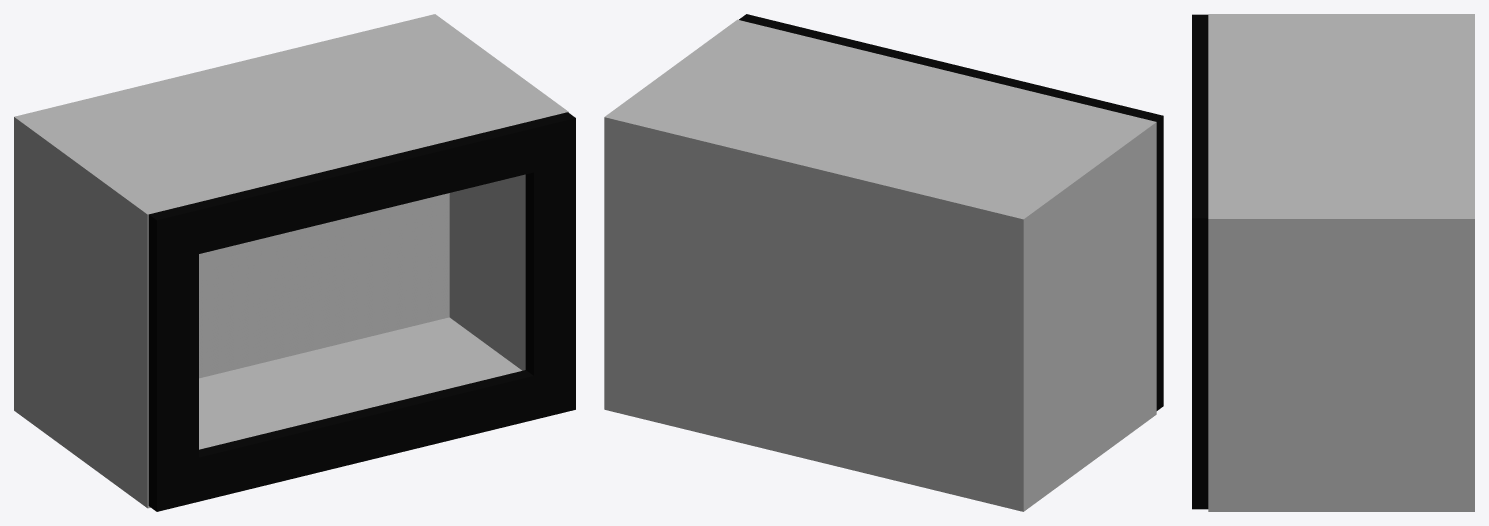
The model's file is dml60.glb.
3 views of the same model, side by side, from view 1: azimuth 30°, elevation 25°; view 2: azimuth 150°, elevation 25°; view 3: azimuth 270°, elevation 25° (orthographic).
Parts seen in each view (by area): view 1: Box001, Box011; view 2: Box001, Box011; view 3: Box001, Box011.
Boxes of the visible parts, x1,y1,x2,y2 form: Box001: (14, 14, 568, 508); Box011: (148, 112, 575, 511); Box001: (604, 19, 1156, 511); Box011: (739, 14, 1163, 410); Box001: (1208, 14, 1474, 511); Box011: (1192, 14, 1208, 509).
Size of the model in its own units: 0.6 by 0.4 by 0.35.
Materials: 2 (1 with a texture image).
